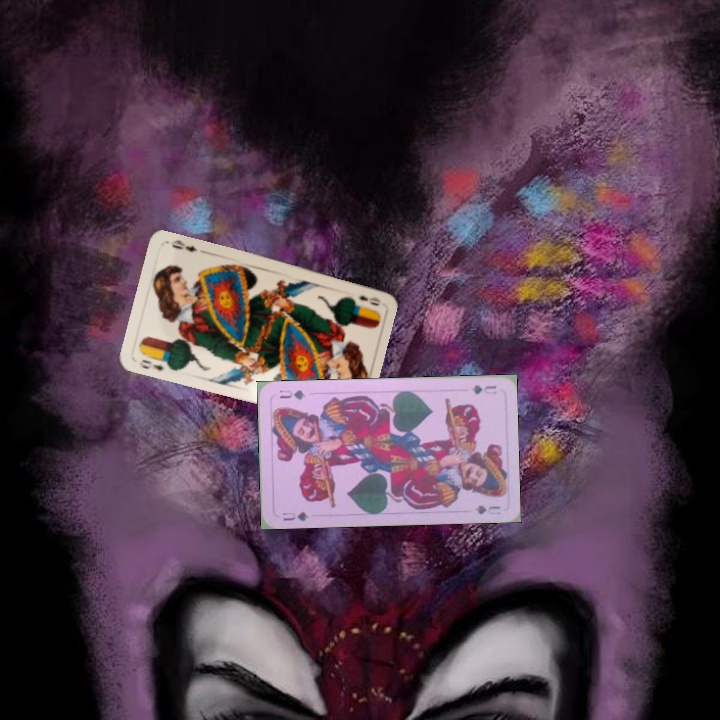EO: (135, 355, 166, 373), (355, 291, 384, 308)
GU: (279, 507, 311, 524), (467, 381, 499, 397)
